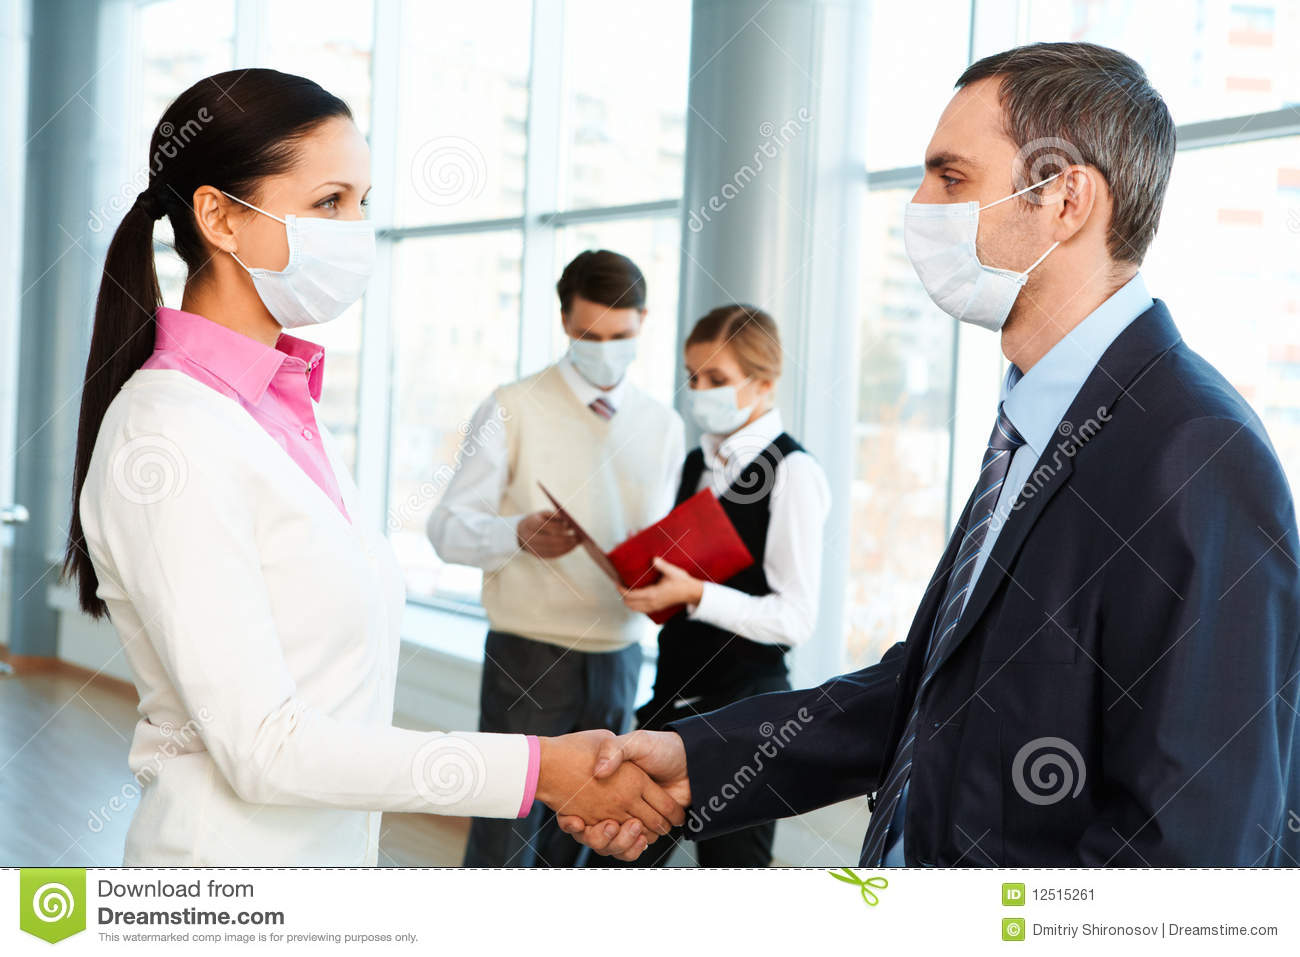mask: (903, 197, 1032, 331), (253, 214, 380, 330)
